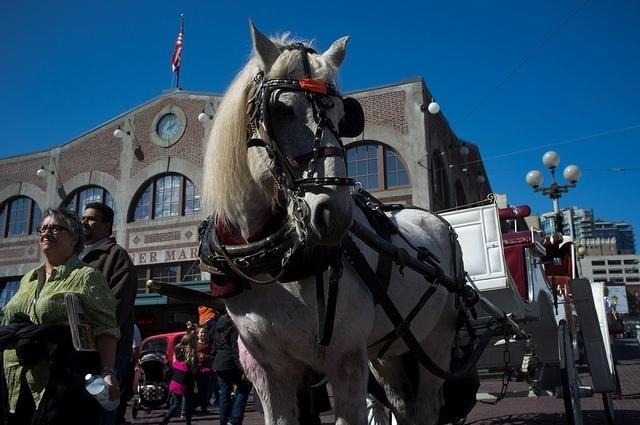car: (133, 332, 187, 392)
